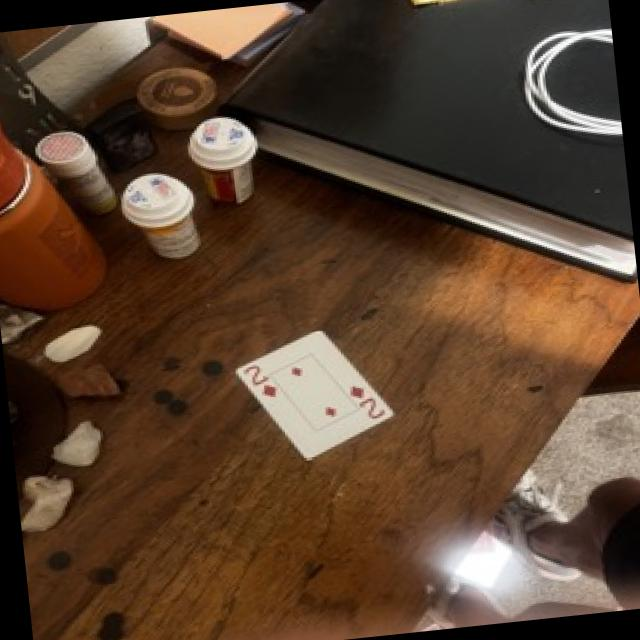2 of diamonds: (235, 331, 392, 459)
